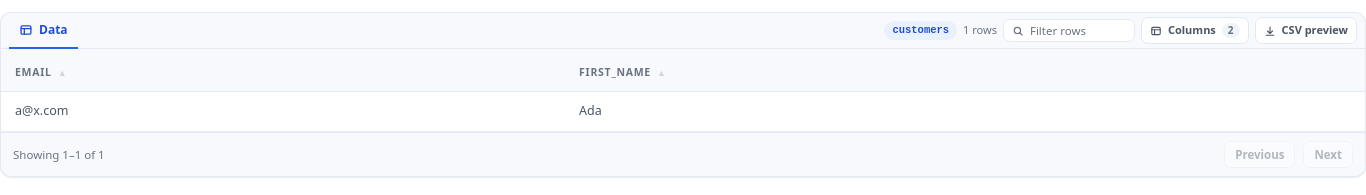
Test case: ResultCard columns › says how many columns are folded, and gives them back
Step 1. Click the button "Columns 2" → (1195,31), box [1141, 17, 1248, 44]
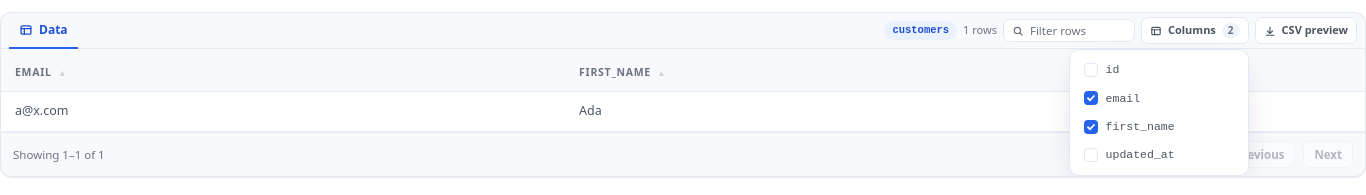
Step 2. Click the button with aria-label "Show id" → (1159,70), box [1076, 56, 1242, 84]
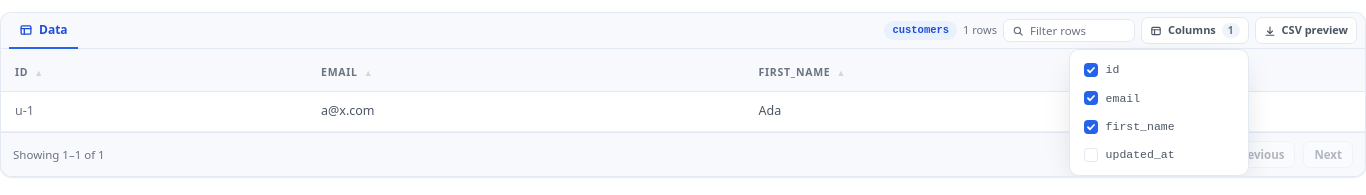
Expected: the column heading "id ▲" is shown, [1, 49, 307, 92]
